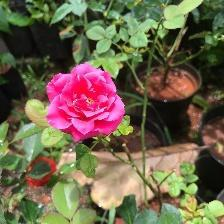rose: (45, 63, 127, 145)
